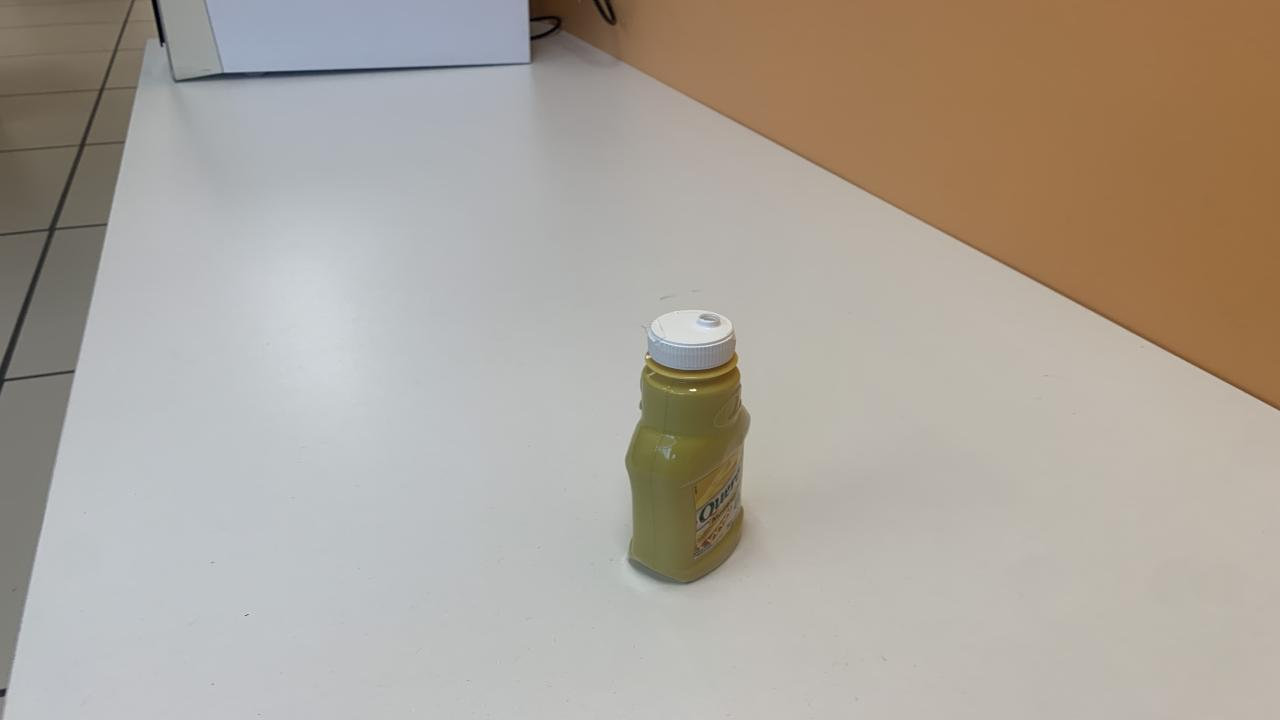Mustard-Pantry_Items: (624, 308, 751, 588)
